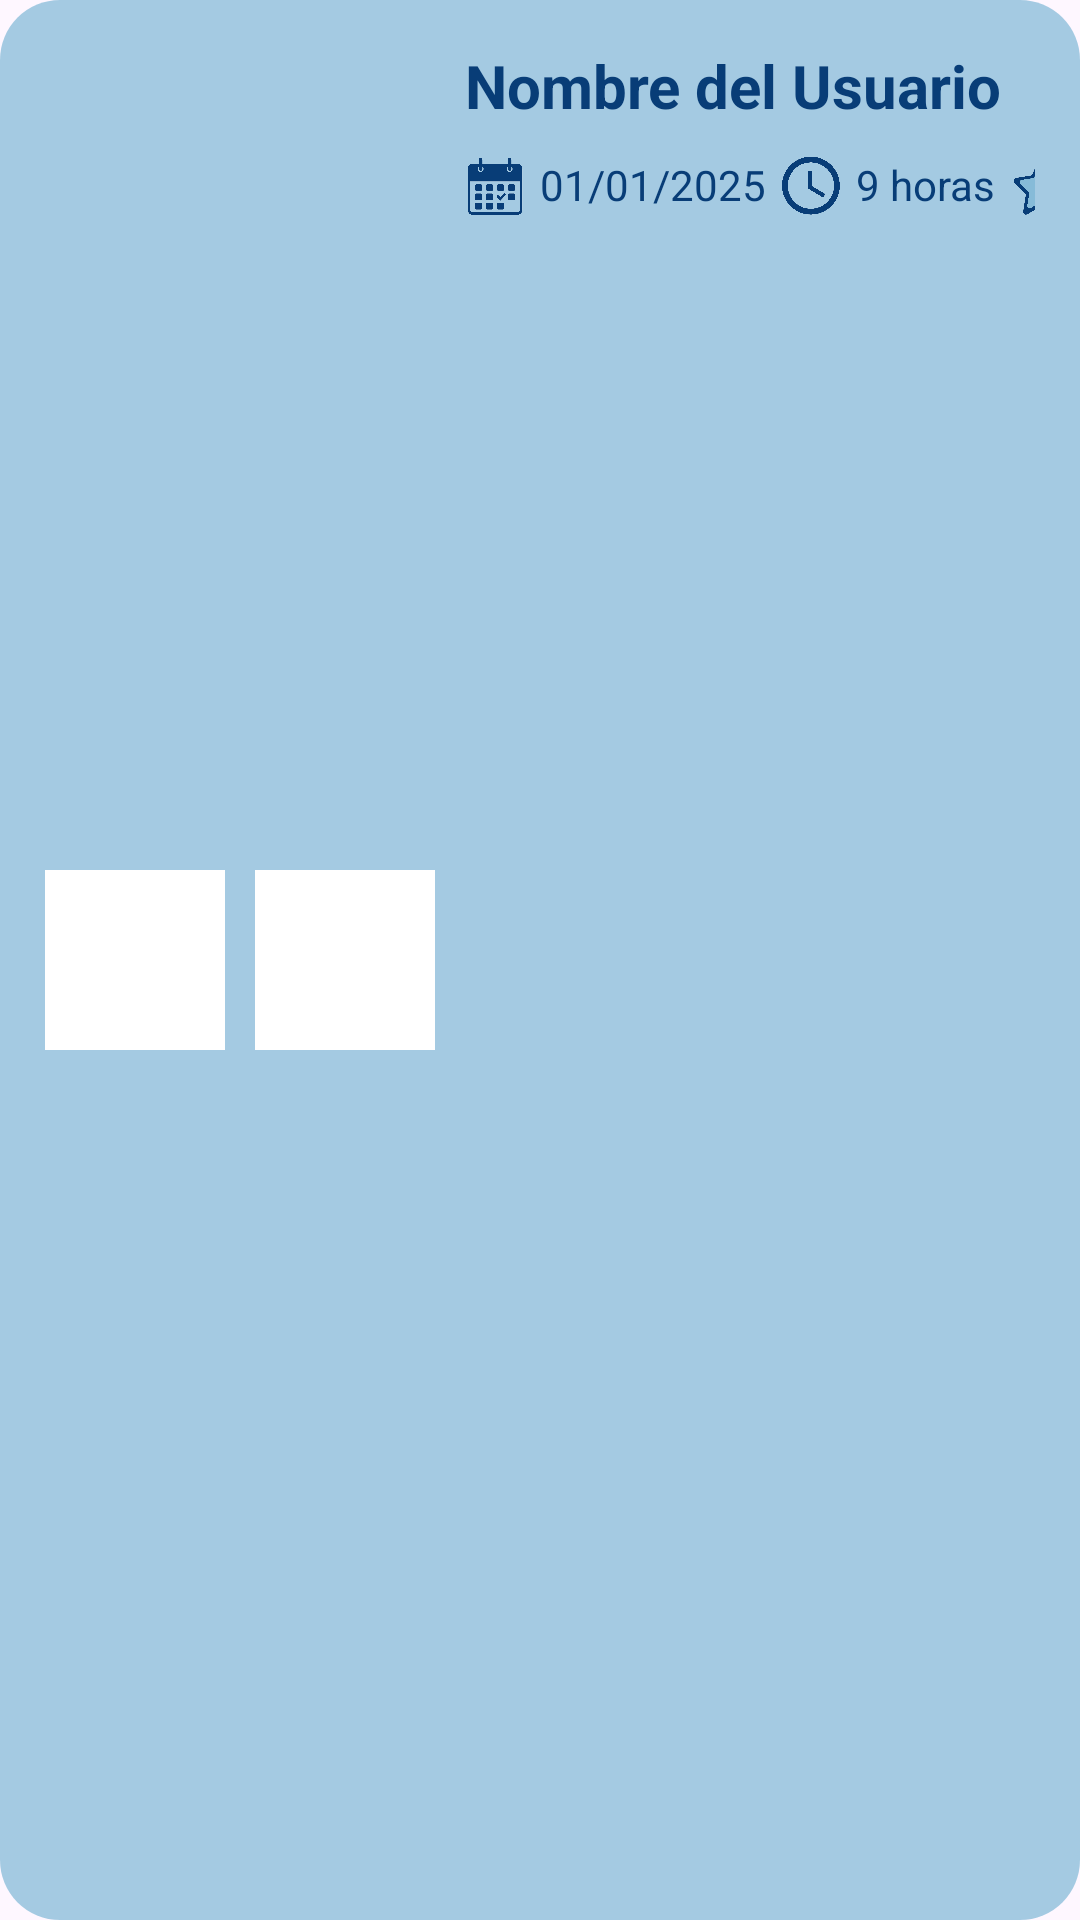

Named icons in this screenshot (1080w x 1920h) and their centers, [x,y]:
calendar: [495,186]
time: [811,186]
